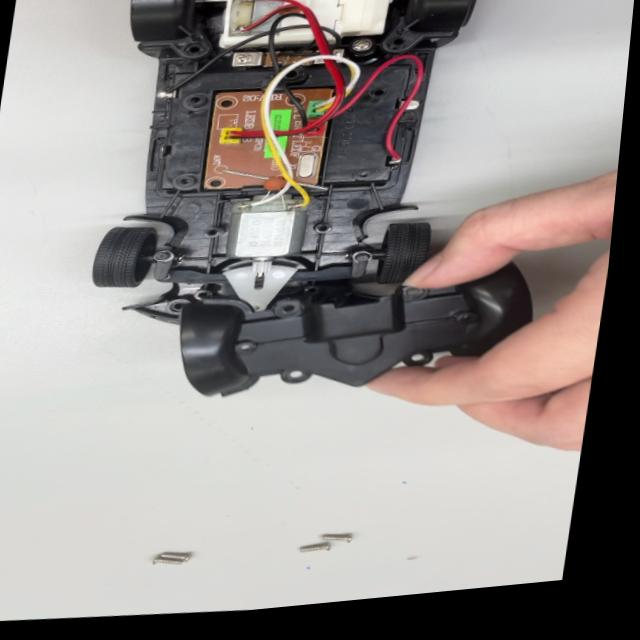motor_cover: (159, 238, 542, 432)
screw: (136, 541, 198, 579), (312, 518, 364, 547), (288, 538, 340, 564)
